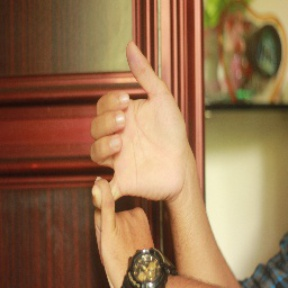S: (84, 41, 187, 288)
